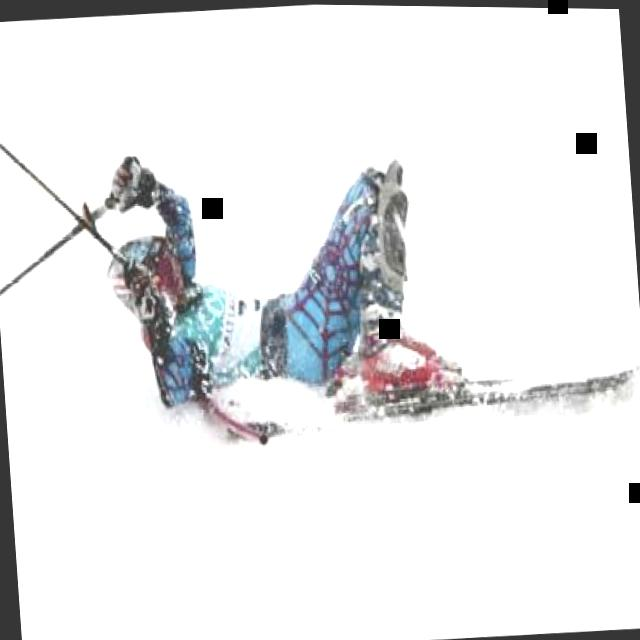Fall-Detected: (80, 77, 478, 452)
